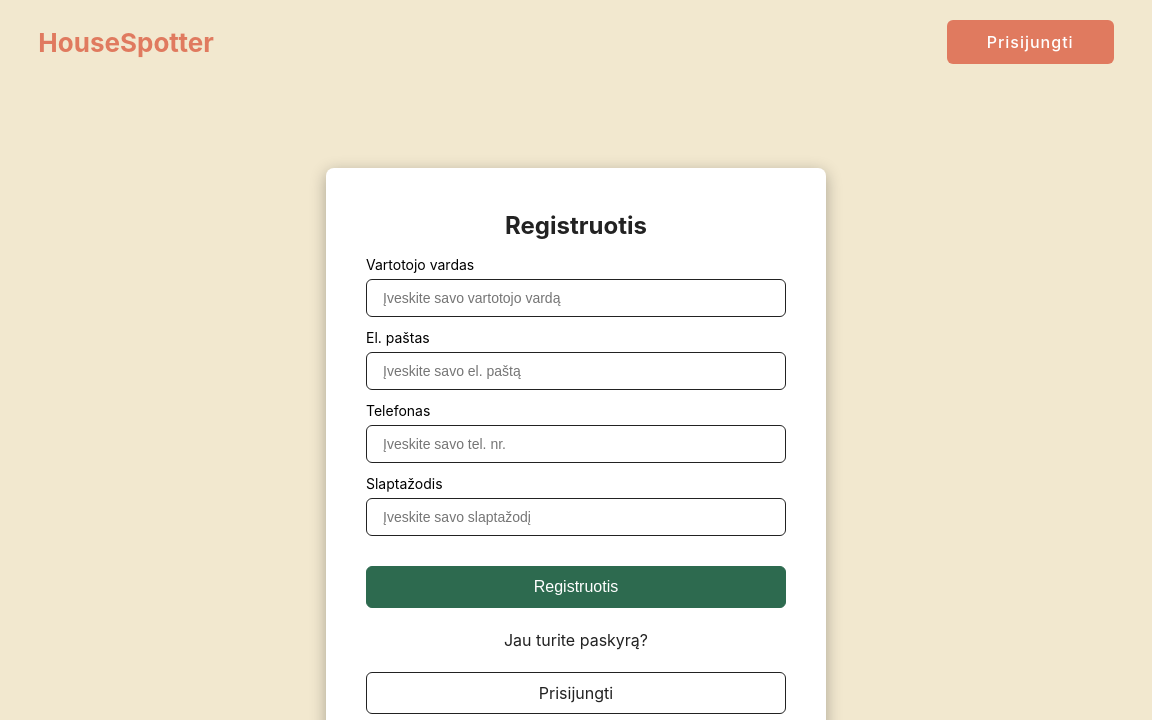
Test: Registration Functionality › Successfully registers with valid data
Type "newuser" into the field named "username". click: (576, 298)
box: [366,279,786,317]
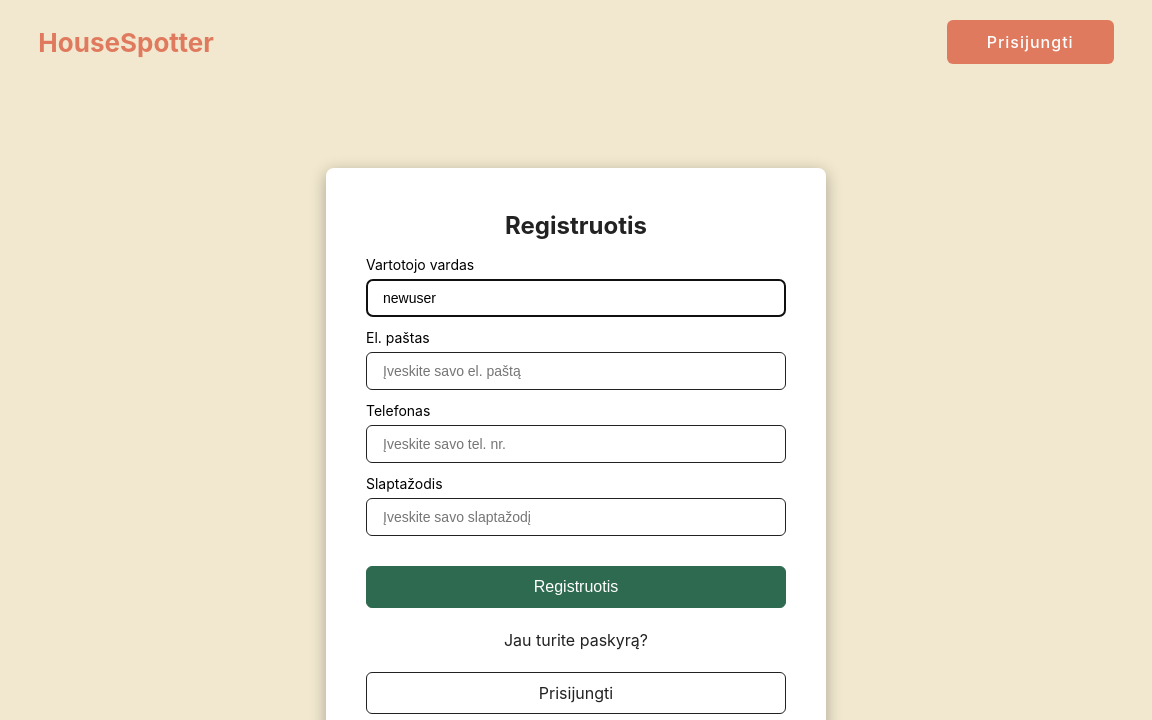
Type "newuser@email.com" into the field named "email". click: (576, 371)
box: [366,352,786,390]
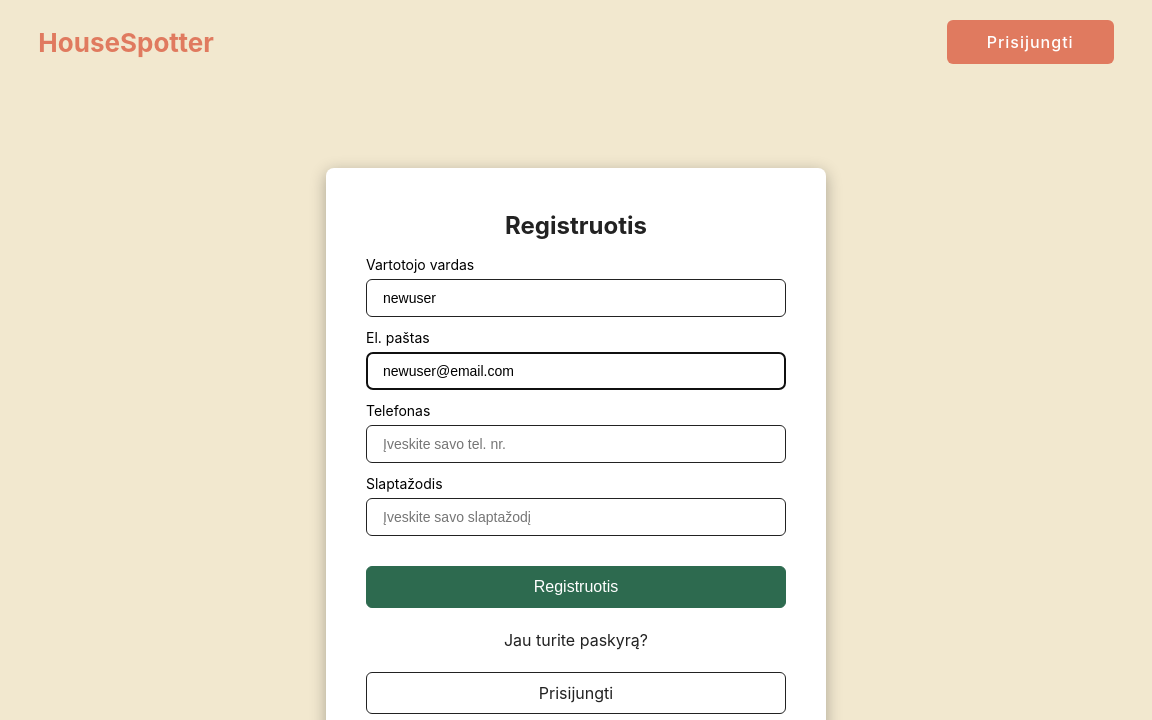
Type "1234567890" into the field named "phone". click: (576, 444)
box: [366,425,786,463]
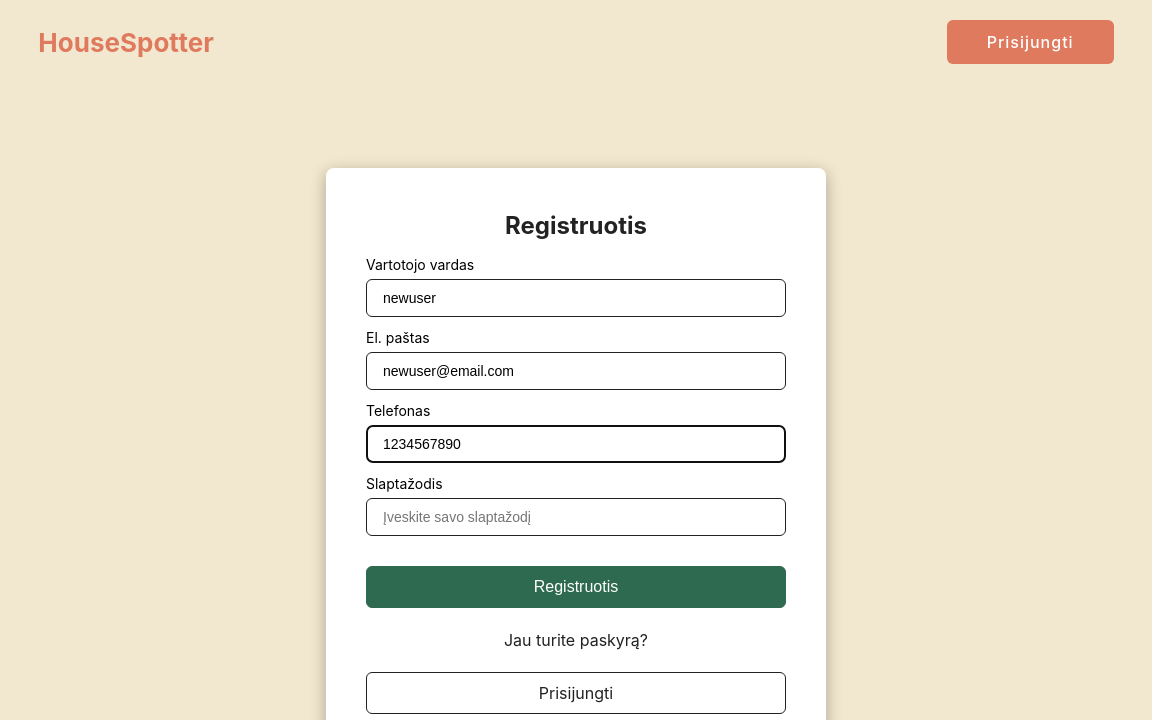
Type "newpassword" into the password field named "password". click: (576, 517)
box: [366,498,786,536]
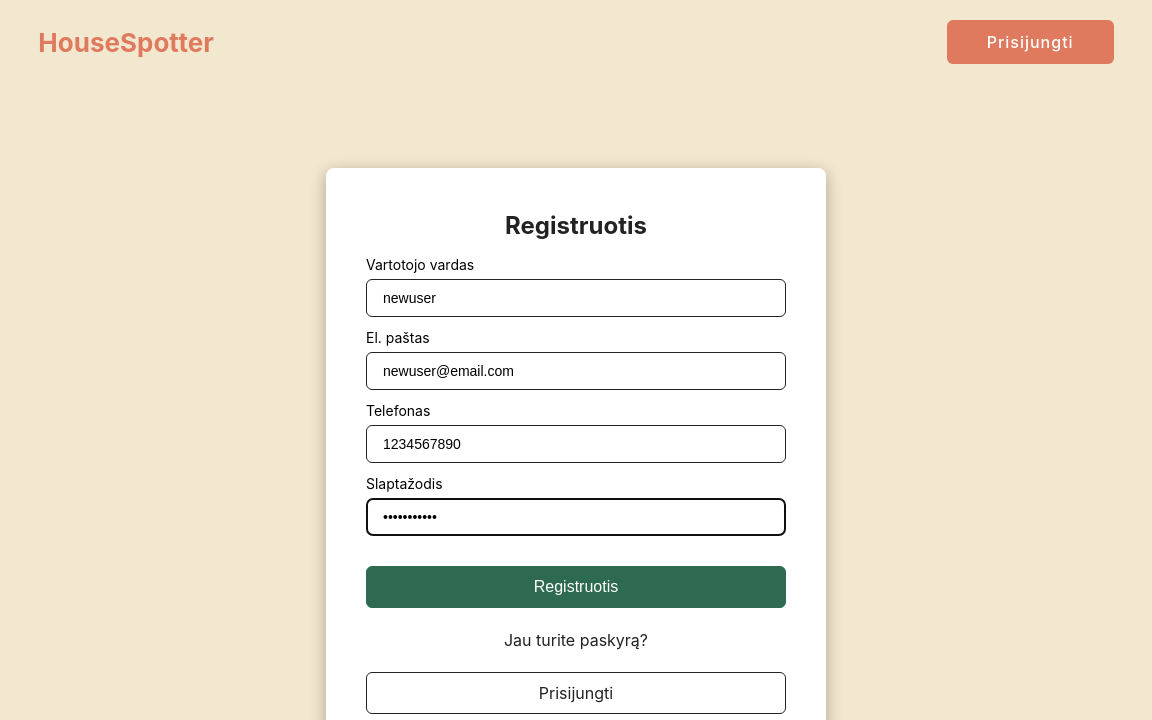
Click the submit button. click: (576, 587)
box: [366,566,786,608]
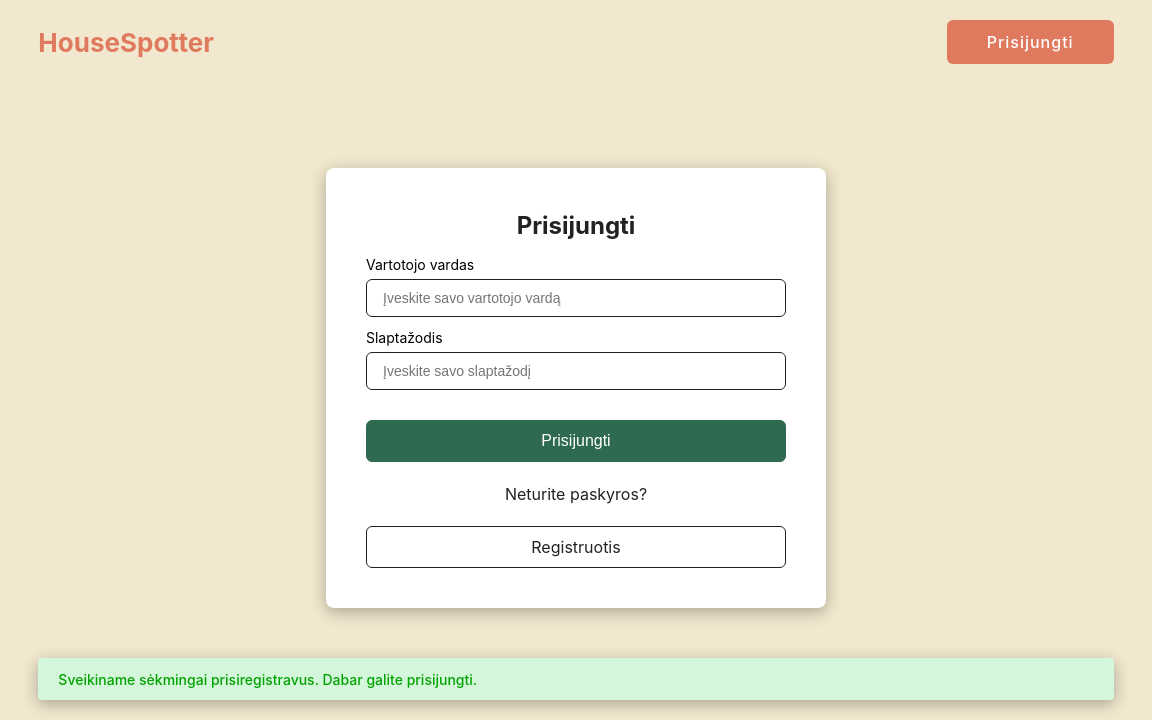
Now the text "Sveikiname sėkmingai prisiregistravus. Dabar galite prisijungti." is shown, box [38,658,1114,700]
